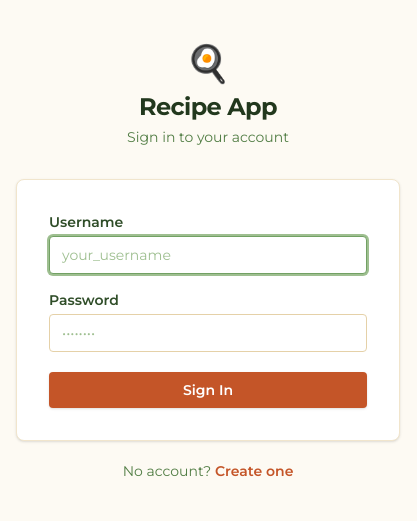
it: LoginPage › API returns 401 — shows error message
Type "alice" into the field with placeholder "your_username" at (208, 255), box x1=49 y1=236 x2=367 y2=274
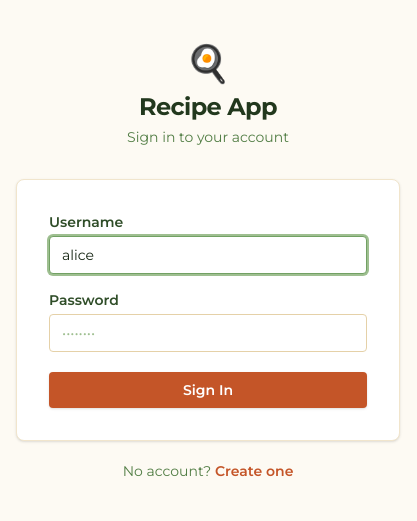
Type "wrong" into the password field with placeholder "••••••••" at (208, 333), box x1=49 y1=314 x2=367 y2=352
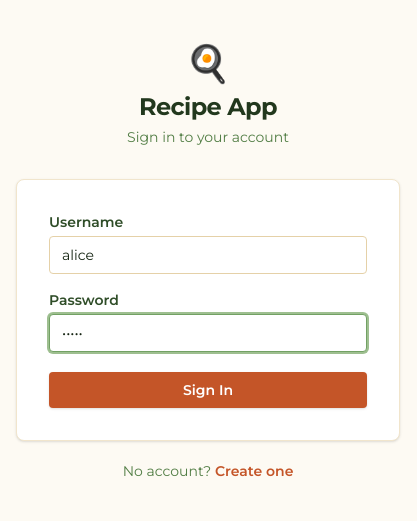
Click the button "Sign In" at (208, 390), box x1=49 y1=372 x2=367 y2=408
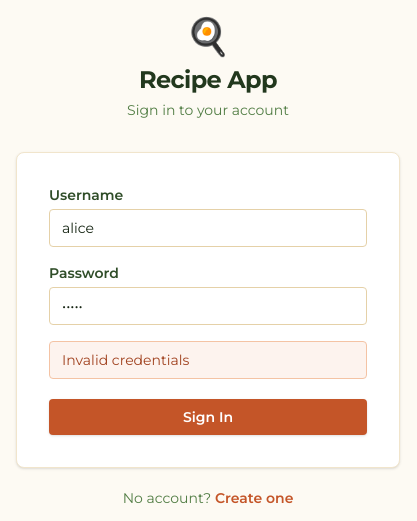
expect the text "Invalid credentials" is shown: met, box x1=49 y1=341 x2=367 y2=379
